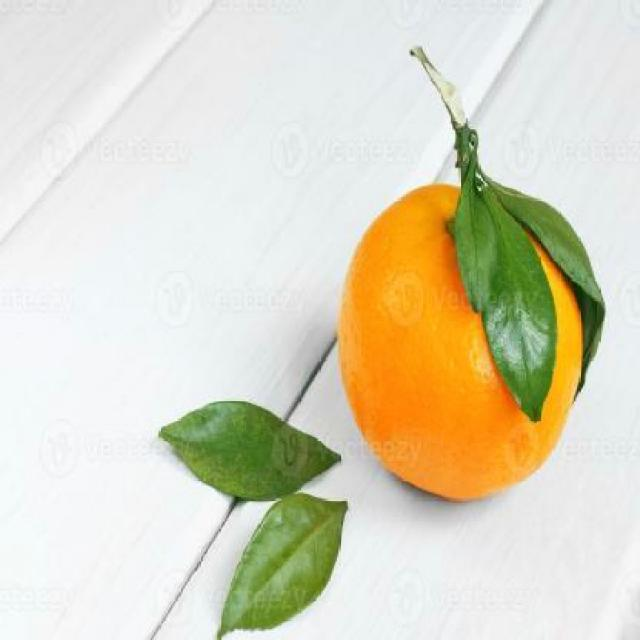Jeruk Sudah Matang: (336, 177, 582, 503)
